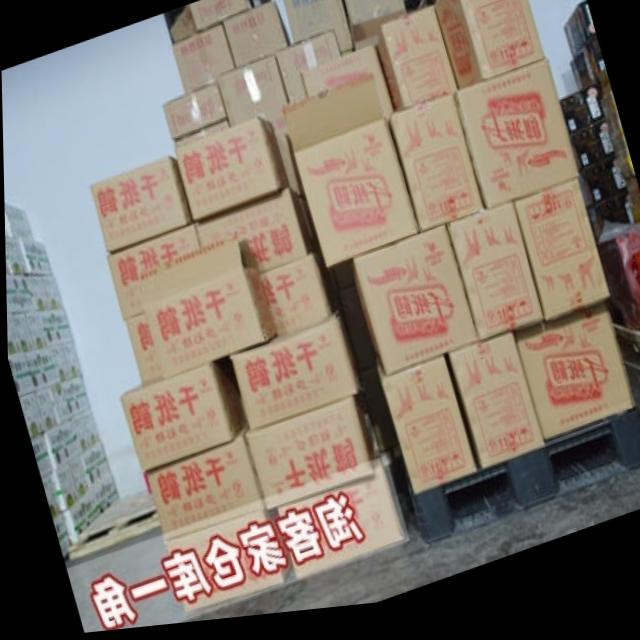box: (273, 421, 401, 586), (292, 125, 419, 275), (349, 232, 476, 381), (453, 70, 578, 216), (138, 247, 275, 380), (511, 316, 634, 460), (225, 320, 361, 435), (241, 405, 371, 517), (372, 362, 477, 499), (117, 361, 241, 476), (161, 504, 289, 615), (511, 191, 609, 332), (442, 342, 543, 478), (443, 211, 542, 348), (387, 103, 483, 242), (145, 429, 258, 542), (175, 123, 289, 222), (434, 0, 543, 101), (191, 192, 312, 279), (89, 158, 193, 254), (105, 227, 201, 322), (375, 12, 458, 120), (283, 79, 381, 159), (301, 51, 394, 127), (214, 57, 289, 141), (258, 259, 330, 340), (595, 237, 640, 348), (275, 35, 339, 110), (224, 5, 288, 74), (281, 0, 353, 61), (170, 28, 234, 91), (162, 87, 227, 143), (342, 0, 406, 50), (586, 201, 635, 255), (122, 317, 160, 385), (577, 167, 625, 218), (187, 0, 249, 38), (557, 96, 603, 146), (569, 130, 614, 181), (568, 51, 607, 104), (562, 13, 597, 70), (275, 140, 301, 198), (46, 462, 76, 512), (171, 124, 229, 149), (15, 239, 51, 275), (40, 424, 68, 470), (56, 500, 83, 546), (8, 271, 36, 314), (32, 389, 58, 433), (16, 393, 40, 440), (56, 418, 80, 464), (168, 8, 198, 44), (28, 434, 50, 482), (593, 88, 618, 130), (75, 446, 97, 492), (47, 308, 73, 346), (35, 353, 60, 390), (24, 273, 46, 314), (4, 204, 31, 237), (10, 312, 33, 350), (23, 312, 47, 348), (89, 440, 109, 483), (605, 128, 627, 167), (4, 236, 26, 275), (50, 512, 68, 558), (46, 383, 66, 424), (48, 344, 68, 385), (57, 378, 78, 417), (39, 275, 63, 309), (8, 361, 32, 395), (69, 375, 89, 415), (67, 454, 85, 498), (59, 343, 80, 380), (24, 357, 45, 393), (5, 313, 22, 357), (36, 308, 56, 345), (74, 492, 95, 527), (613, 161, 634, 194), (625, 190, 640, 236), (86, 481, 105, 517), (39, 479, 56, 518), (97, 477, 117, 510), (80, 413, 98, 449), (68, 416, 87, 449), (5, 273, 20, 313)
